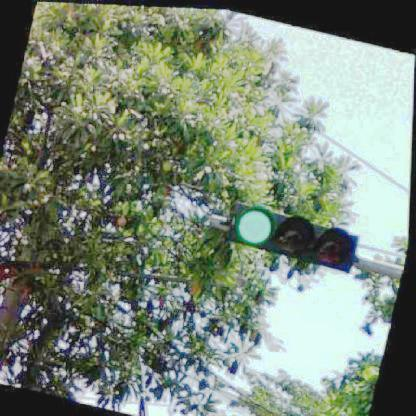Traffic Light -Green-: (228, 197, 364, 273)
